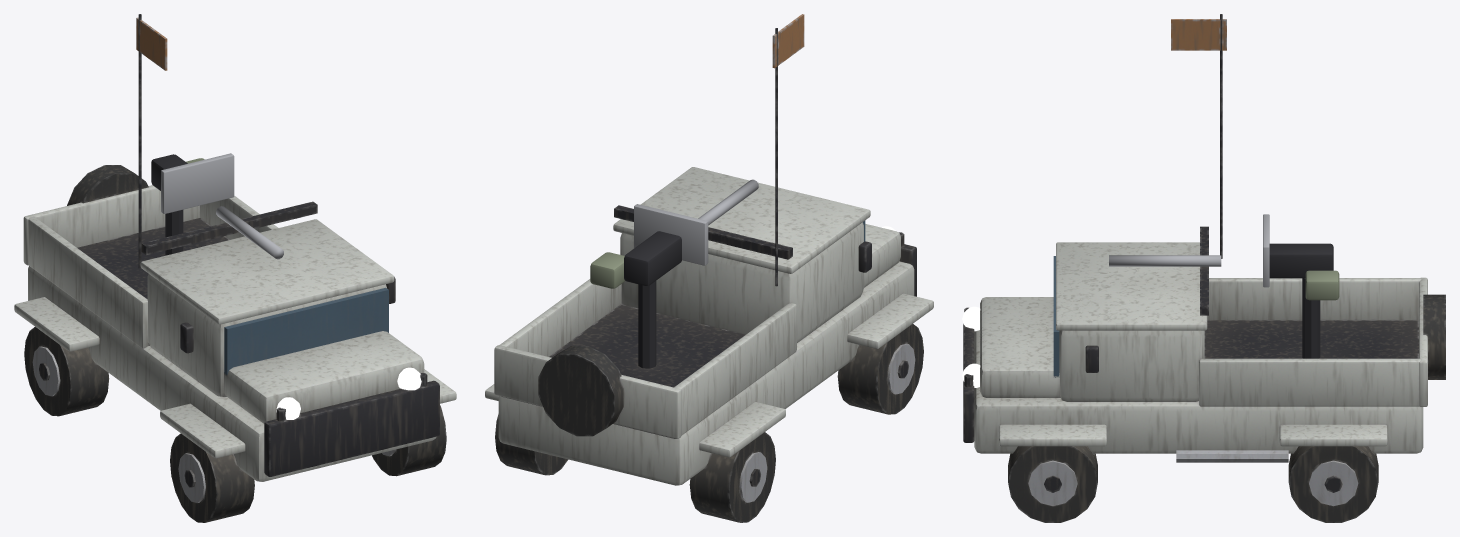
File: technical.glb
The picture shows the model from 3 angles, left to right: view 1: azimuth 30°, elevation 25°; view 2: azimuth 150°, elevation 25°; view 3: azimuth 270°, elevation 25°; orthographic projection. The views are drawn at different scales.
Parts seen in each view (by area): view 1: Hull, Turret, Barrel; view 2: Hull, Turret, Barrel; view 3: Hull, Turret, Barrel.
Boxes of the visible parts, x1,y1,x2,y2 form: Hull: (14,14,456,522); Turret: (151,153,234,255); Barrel: (216,206,283,259); Hull: (485,14,933,522); Turret: (590,204,708,368); Barrel: (698,179,758,225); Hull: (962,14,1445,522); Turret: (1263,214,1339,358); Barrel: (1109,255,1221,266).
Bounding box in the file's own units: 2.4 × 4.09 × 4.31.
10 materials, 7 textured.
